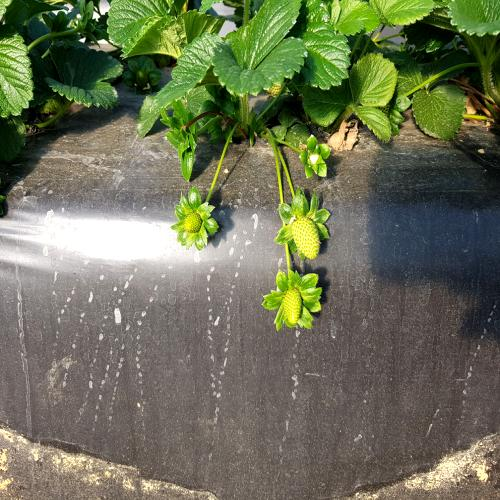unripe: (288, 211, 324, 264), (282, 284, 307, 334)
